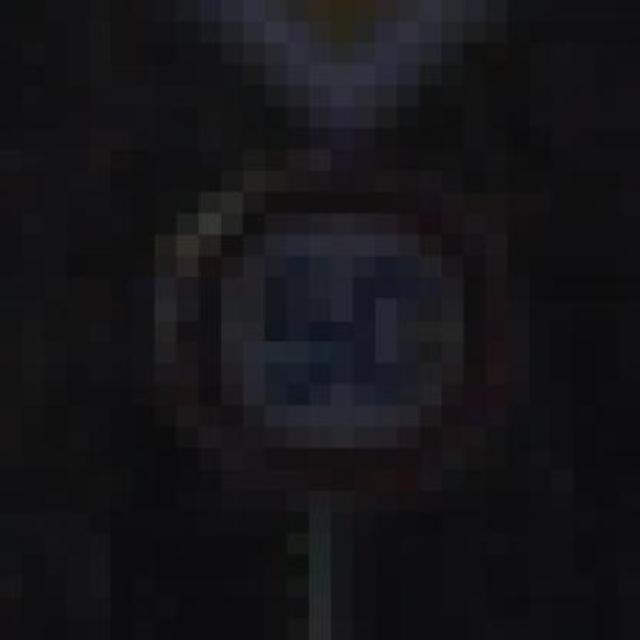50 mph speed limit: (110, 128, 530, 490)
